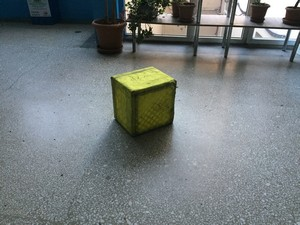cube: (112, 68, 177, 134)
